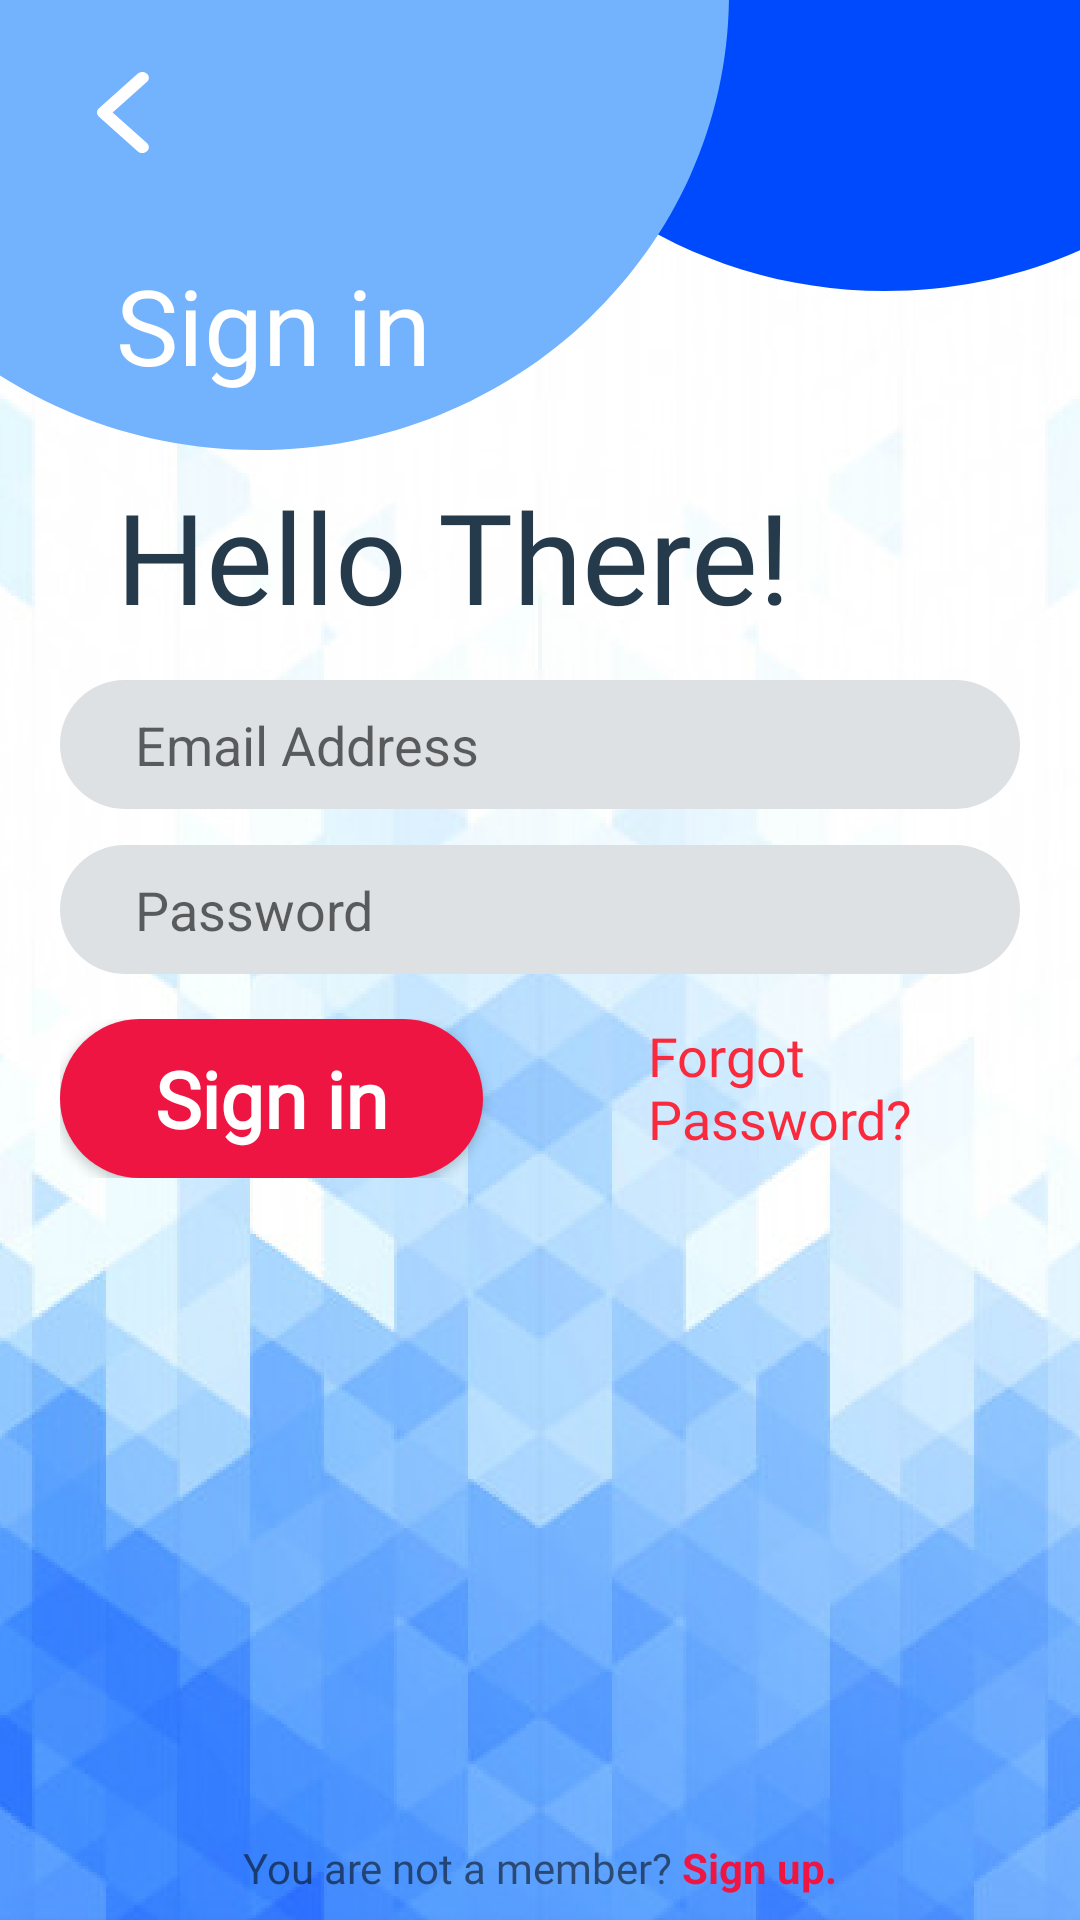

Icon click points for this 1080x1920 phone screenshot, format (x,y):
back: (123,112)
